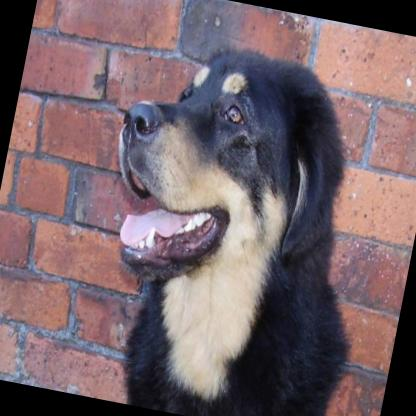Tibetan_mastiff: (65, 16, 407, 416)
